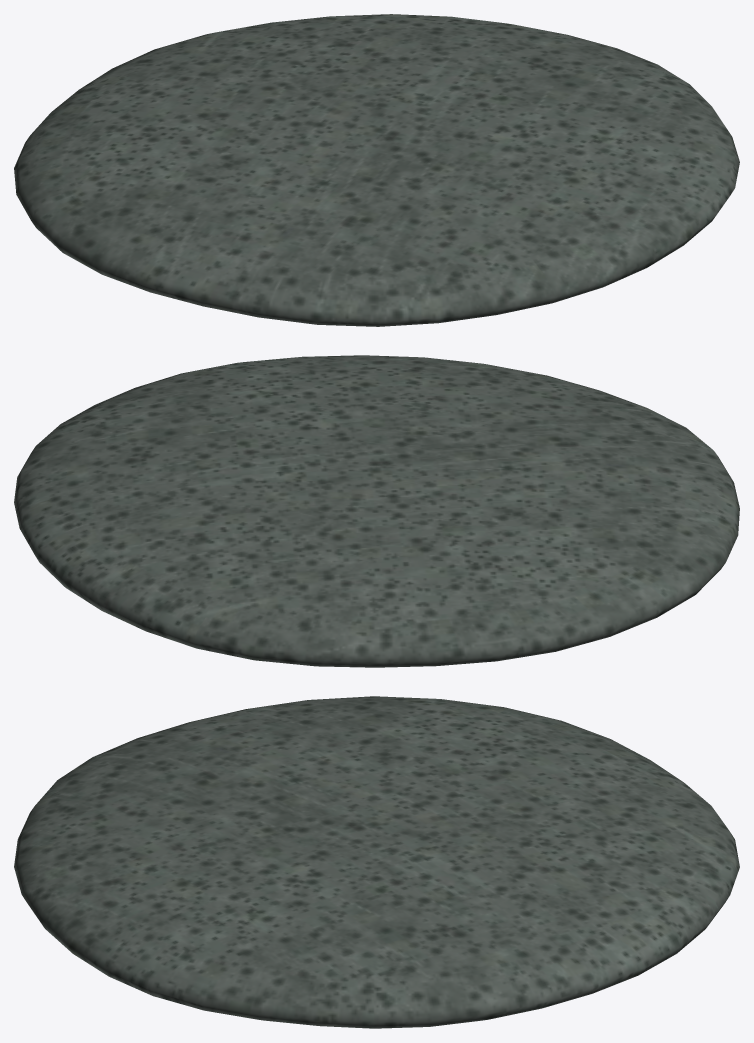
The model's file is heavy_basalt_07.glb.
3 renders of one model, top to bottom at view 1: azimuth 30°, elevation 25°; view 2: azimuth 150°, elevation 25°; view 3: azimuth 270°, elevation 25°, orthographic. The views are drawn at different scales.
Visible parts, largest first — view 1: heavy_basalt_07; view 2: heavy_basalt_07; view 3: heavy_basalt_07.
Part boxes in pixels (x1,y1,x2,y2): heavy_basalt_07: (14, 14, 739, 326); heavy_basalt_07: (14, 355, 739, 667); heavy_basalt_07: (14, 696, 739, 1028).
Size of the model in its own units: 0.0922 by 0.0109 by 0.0881.
1 material, 1 textured.
